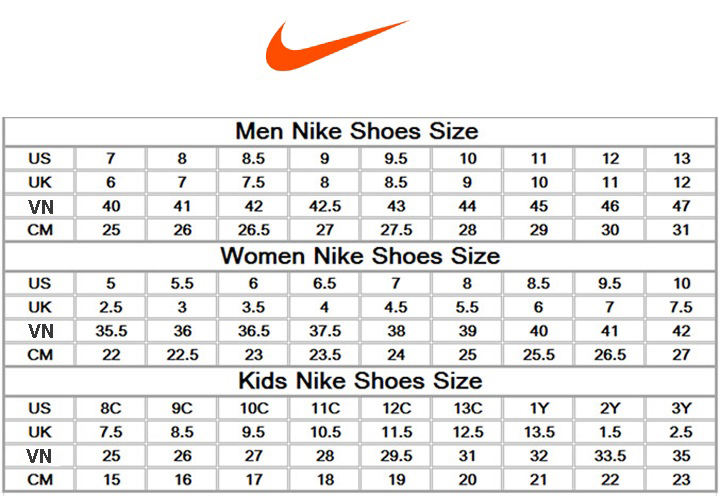Nike: (262, 13, 412, 73)
